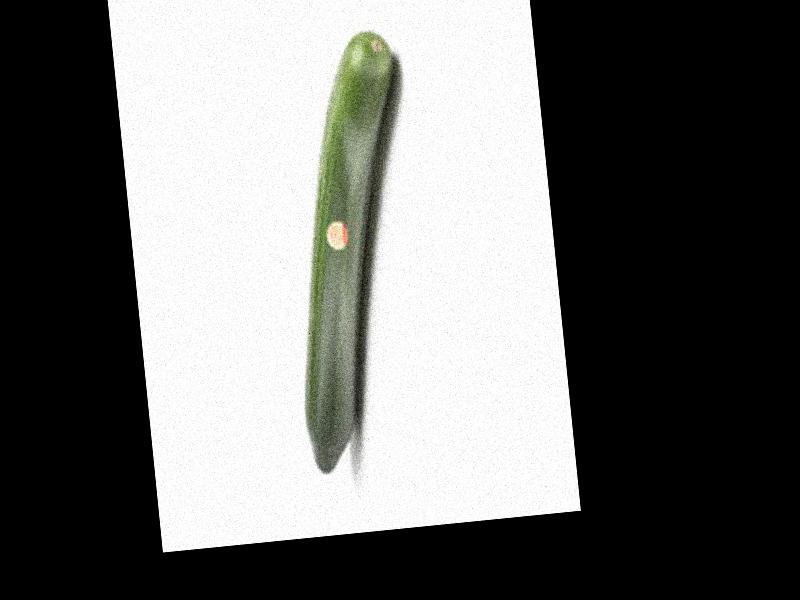Cucumber: (268, 26, 433, 475)
